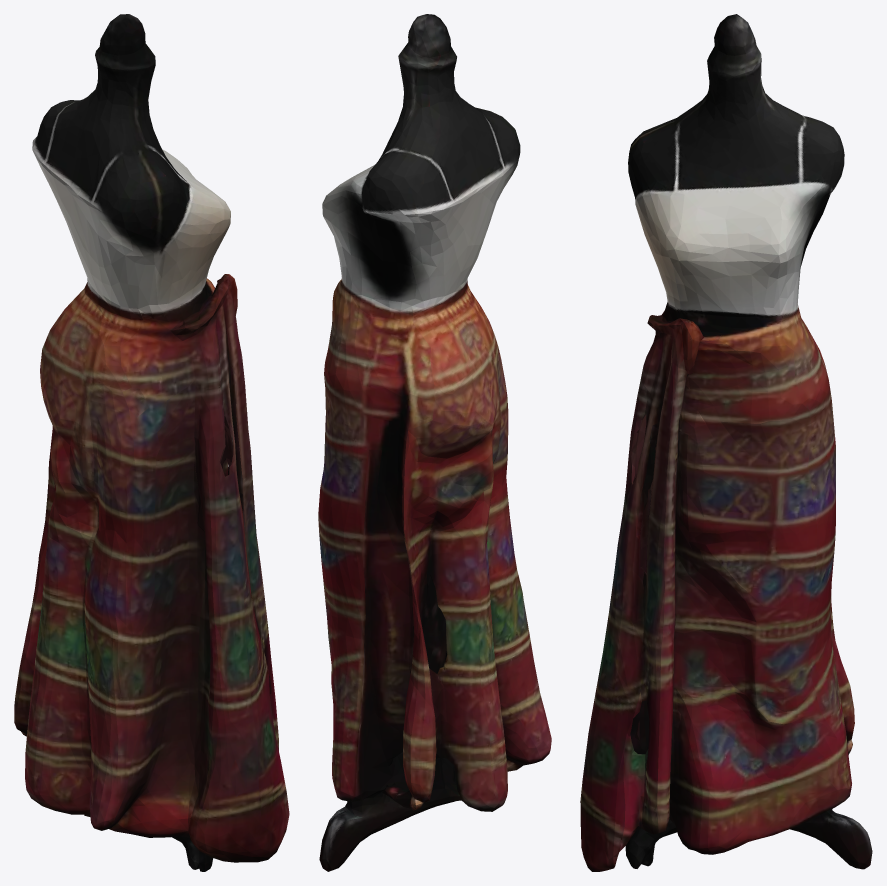
Rendered from heritage-moderne.glb.
The picture shows the model from 3 angles, left to right: view 1: azimuth 30°, elevation 25°; view 2: azimuth 150°, elevation 25°; view 3: azimuth 270°, elevation 25°; orthographic projection.
Parts seen in each view (by area): view 1: geometry_0; view 2: geometry_0; view 3: geometry_0.
Boxes of the visible parts, left/top/right/bottom form: geometry_0: left=14, top=14, right=289, bottom=871; geometry_0: left=318, top=14, right=551, bottom=871; geometry_0: left=580, top=14, right=872, bottom=871.
Size of the model in its own units: 0.2567 by 1 by 0.3161.
Materials: 1 (1 with a texture image).
